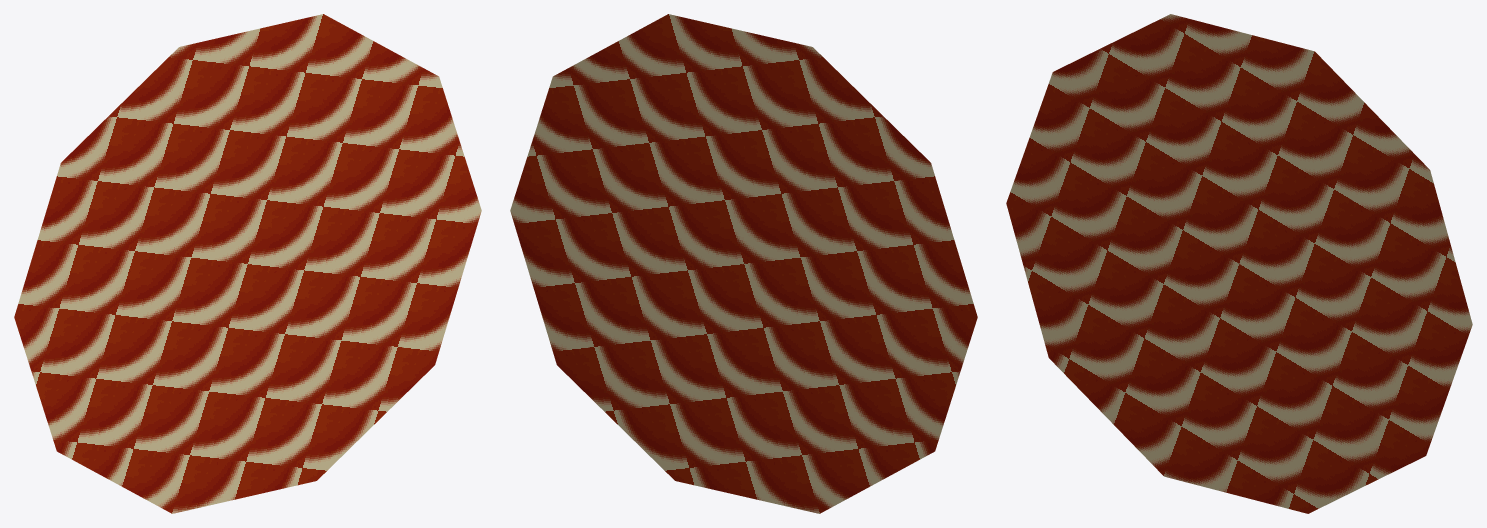
The picture shows the model from 3 angles, left to right: view 1: azimuth 30°, elevation 25°; view 2: azimuth 150°, elevation 25°; view 3: azimuth 330°, elevation 25°; orthographic projection.
Parts seen in each view (by area): view 1: ef_626; view 2: ef_626; view 3: ef_626.
Part boxes in pixels (x1,y1,x2,y2): ef_626: (14, 14, 481, 513); ef_626: (510, 14, 977, 513); ef_626: (1006, 14, 1472, 513).
Size of the model in its own units: 0.8188 by 0.7823 by 0.
Materials: 1 (1 with a texture image).
